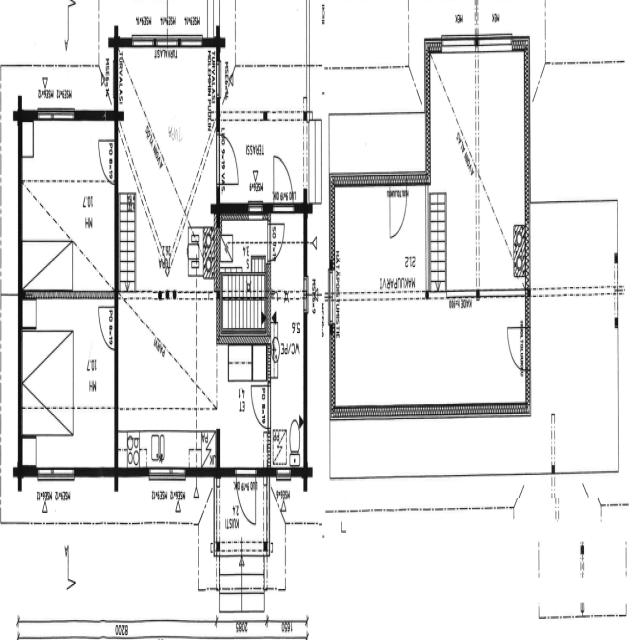door: (235, 463, 258, 528), (271, 150, 296, 209), (217, 129, 240, 190), (386, 184, 408, 242), (96, 292, 117, 352), (504, 317, 526, 373), (95, 130, 117, 186), (250, 378, 270, 429), (268, 214, 285, 262), (163, 19, 180, 54)
window: (35, 99, 77, 128), (33, 459, 77, 485), (476, 29, 515, 56), (440, 30, 476, 58), (147, 461, 188, 485), (326, 269, 337, 327), (178, 32, 204, 53), (129, 32, 156, 52), (245, 197, 265, 220), (273, 460, 292, 484), (214, 60, 222, 103), (303, 272, 311, 314)
zone: (118, 40, 216, 289), (428, 50, 527, 288), (334, 295, 528, 409), (116, 289, 218, 473), (19, 112, 116, 298), (21, 295, 115, 473), (335, 180, 428, 294), (269, 207, 306, 464), (218, 209, 269, 330)
